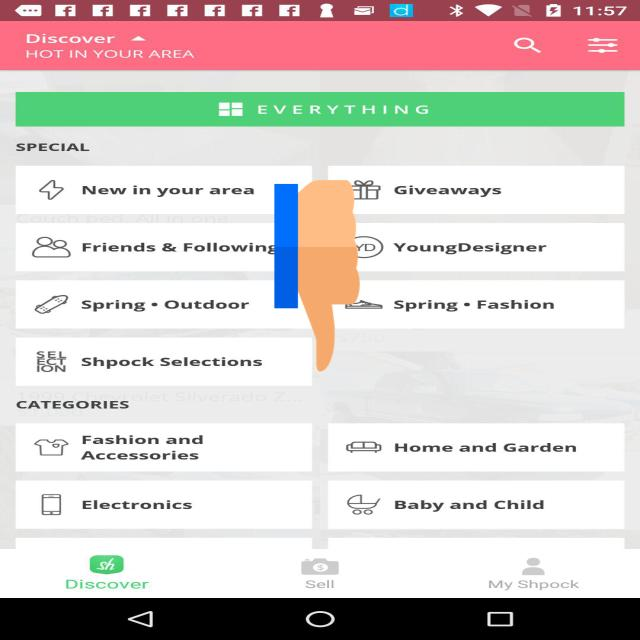obstruction: (274, 176, 360, 377)
